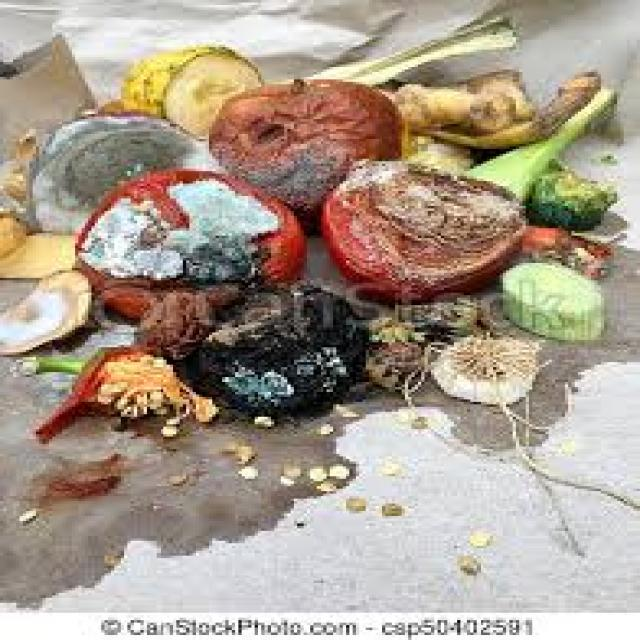organic waste: (75, 166, 304, 320), (206, 77, 405, 226), (314, 154, 519, 293), (180, 280, 356, 414), (13, 340, 219, 444), (26, 112, 206, 228), (457, 87, 617, 191), (294, 12, 516, 82), (418, 67, 598, 141), (118, 45, 264, 134), (389, 67, 532, 134), (493, 255, 604, 338), (421, 332, 542, 402), (0, 268, 91, 355), (130, 283, 232, 350), (523, 156, 617, 228), (510, 221, 608, 273), (392, 293, 483, 337), (0, 231, 75, 280), (359, 332, 421, 387), (362, 312, 418, 340), (0, 211, 26, 260), (0, 166, 29, 203), (13, 129, 43, 161), (82, 94, 124, 114), (320, 397, 356, 419), (13, 504, 39, 524), (248, 412, 278, 426), (323, 461, 346, 479), (153, 422, 180, 436), (228, 461, 254, 474), (274, 462, 297, 476), (454, 550, 473, 566), (408, 409, 428, 424), (304, 466, 333, 476), (372, 499, 395, 511), (310, 422, 336, 432), (232, 444, 248, 459), (163, 469, 183, 481), (336, 496, 359, 506), (461, 531, 484, 541), (310, 478, 330, 488), (157, 412, 176, 422), (271, 474, 291, 481), (219, 444, 235, 447)
